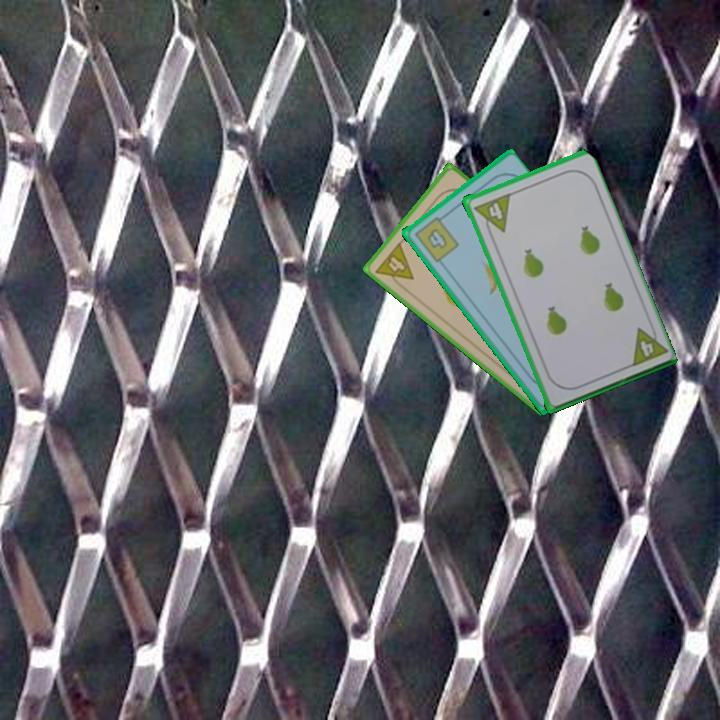4b: (410, 211, 461, 265)
4p: (371, 238, 417, 293), (626, 319, 669, 370), (469, 190, 513, 239)
